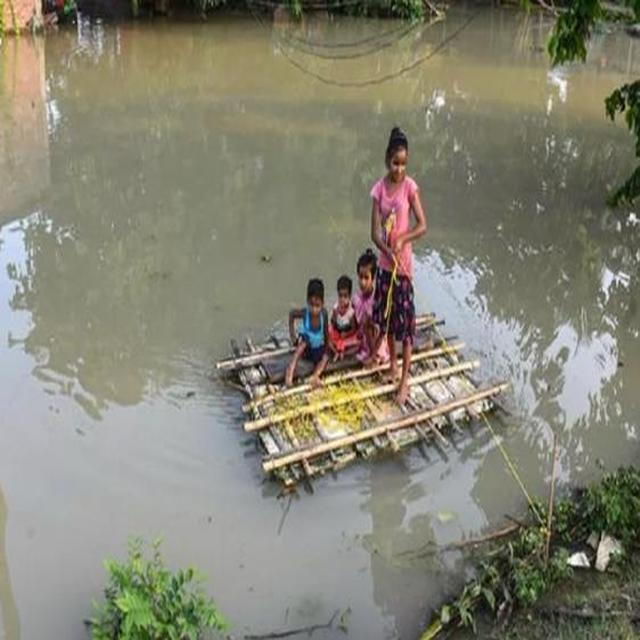Person-RiskLevel3: (365, 124, 426, 415), (278, 247, 392, 391)
